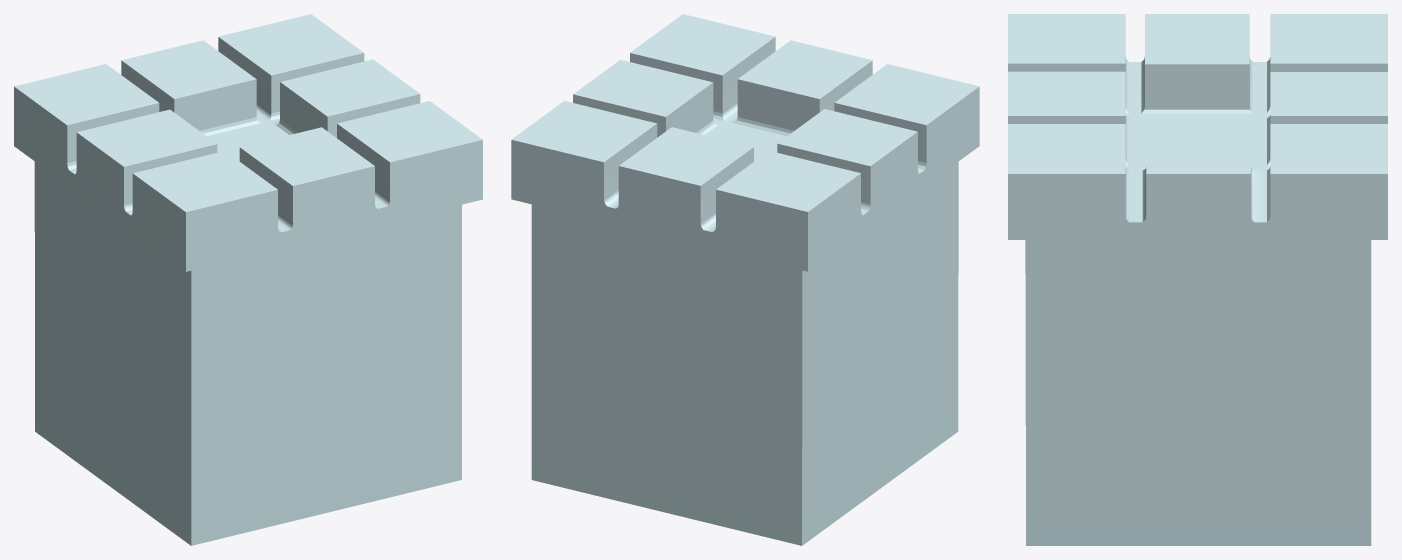
Rendered from SS_Castle_Tower7.fbx.
3 renders of one model, left to right at view 1: azimuth 30°, elevation 25°; view 2: azimuth 150°, elevation 25°; view 3: azimuth 270°, elevation 25°, orthographic. The views are drawn at different scales.
Parts seen in each view (by area): view 1: Castle_Tower7; view 2: Castle_Tower7; view 3: Castle_Tower7.
Part boxes in pixels (left/top/right/bottom): Castle_Tower7: left=14, top=14, right=482, bottom=545; Castle_Tower7: left=511, top=14, right=979, bottom=545; Castle_Tower7: left=1008, top=14, right=1387, bottom=545.
Size of the model in its own units: 5.49 by 6.05 by 5.5.
